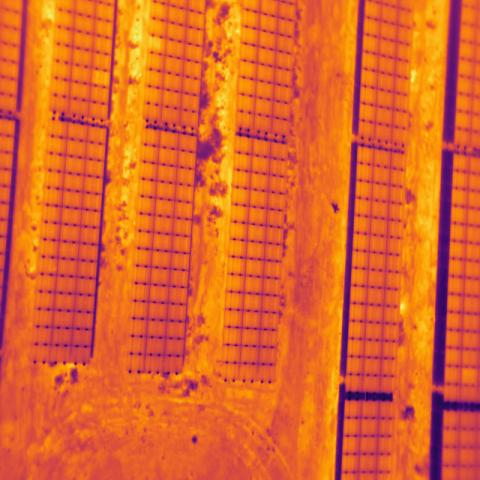fault: (90, 68, 112, 92), (146, 34, 166, 57), (461, 368, 479, 386)
